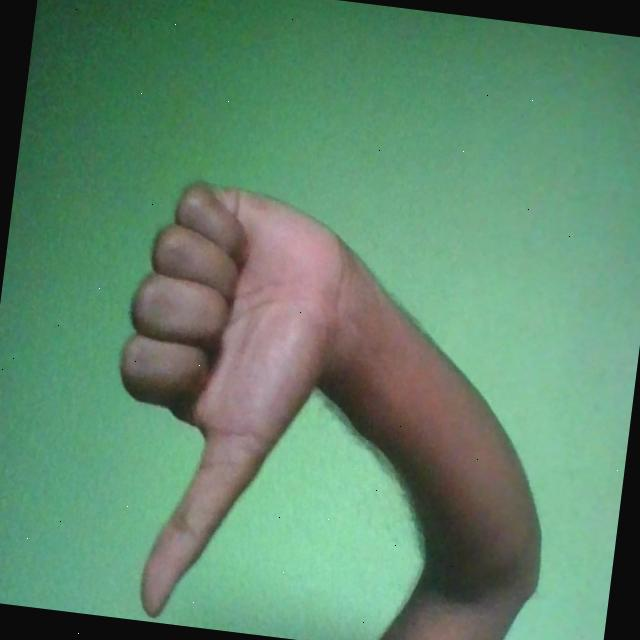Dislike: (88, 173, 356, 640)
